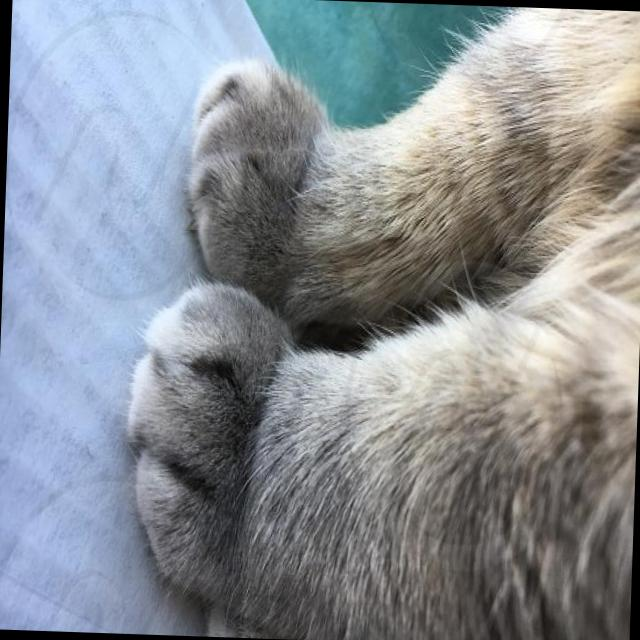Healthy skin: (399, 409, 634, 640), (232, 384, 368, 608), (526, 45, 632, 328), (297, 130, 478, 260), (226, 112, 275, 253)
